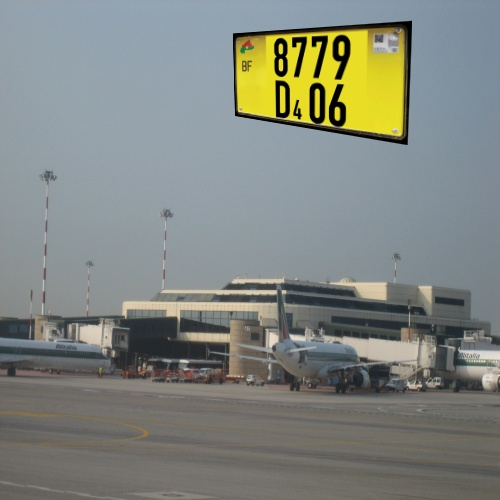plate: (225, 11, 419, 150)
